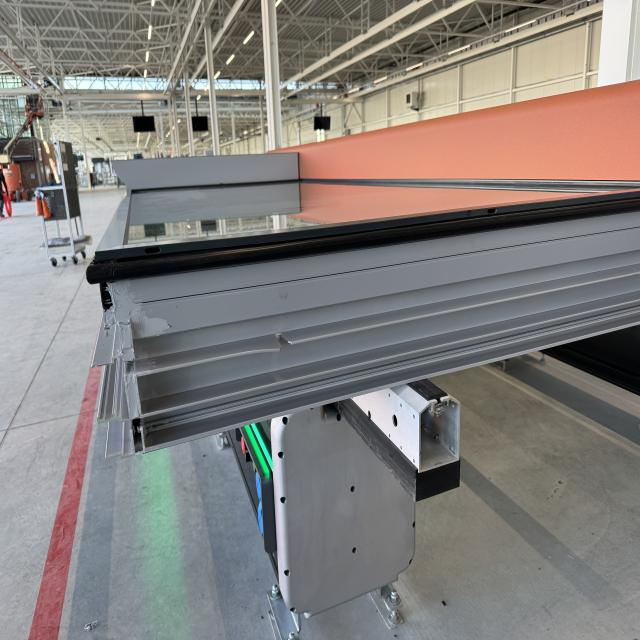ok: (86, 75, 640, 470)
